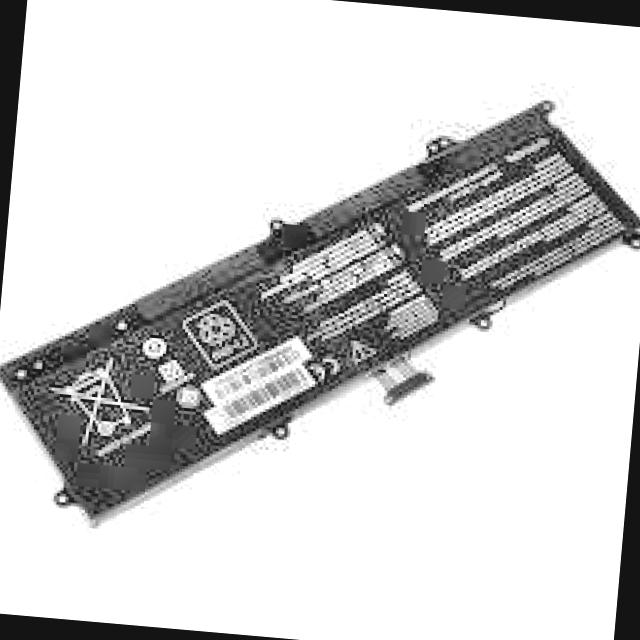Battery: (0, 51, 640, 565)
